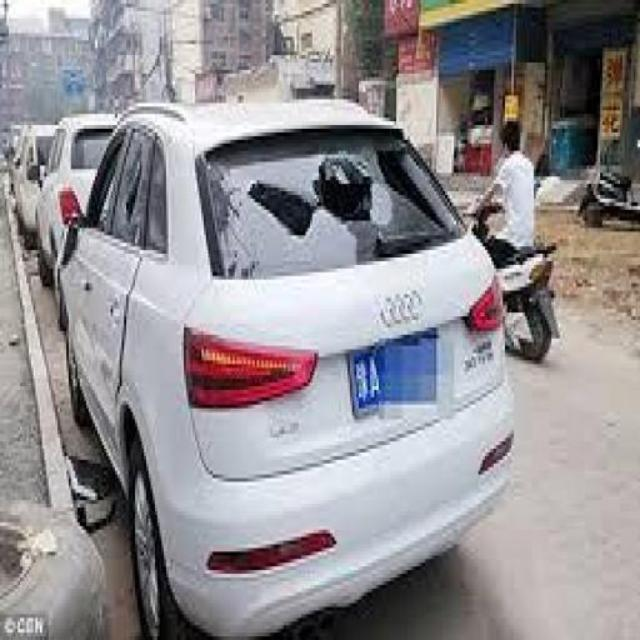glass shatter: (198, 123, 473, 288)
